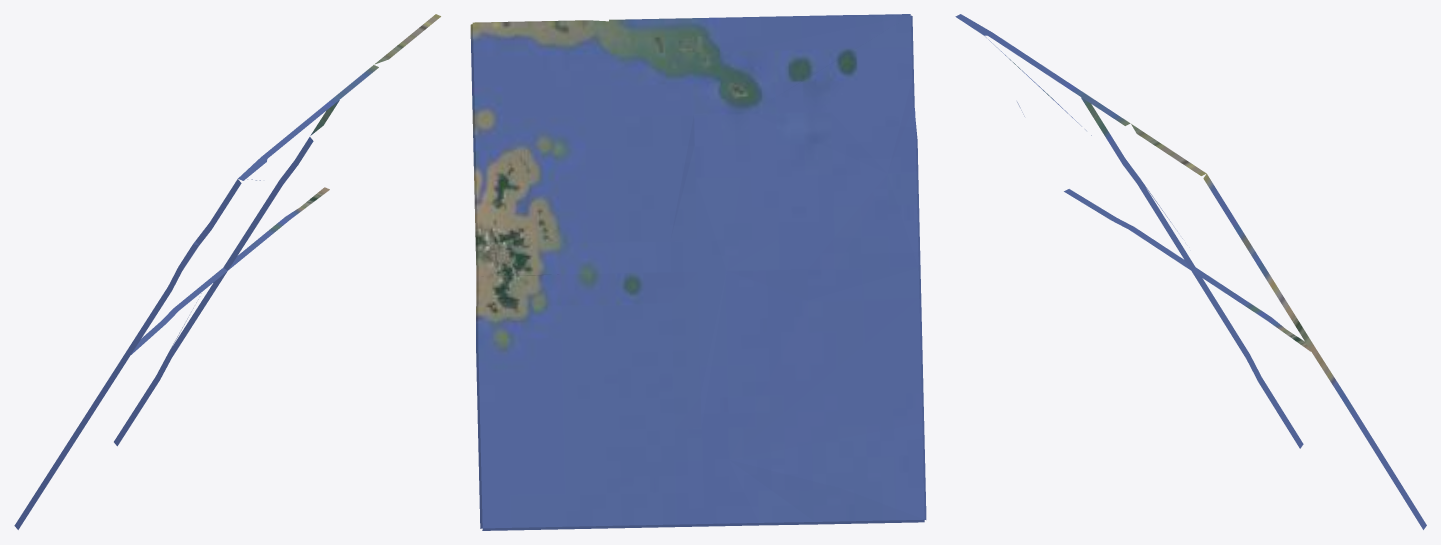
3 views of the same model, side by side, from view 1: azimuth 30°, elevation 25°; view 2: azimuth 150°, elevation 25°; view 3: azimuth 270°, elevation 25° (orthographic). The views are drawn at different scales.
Size of the model in its own units: 78968 by 68787 by 70725.
Materials: 1 (1 with a texture image).
